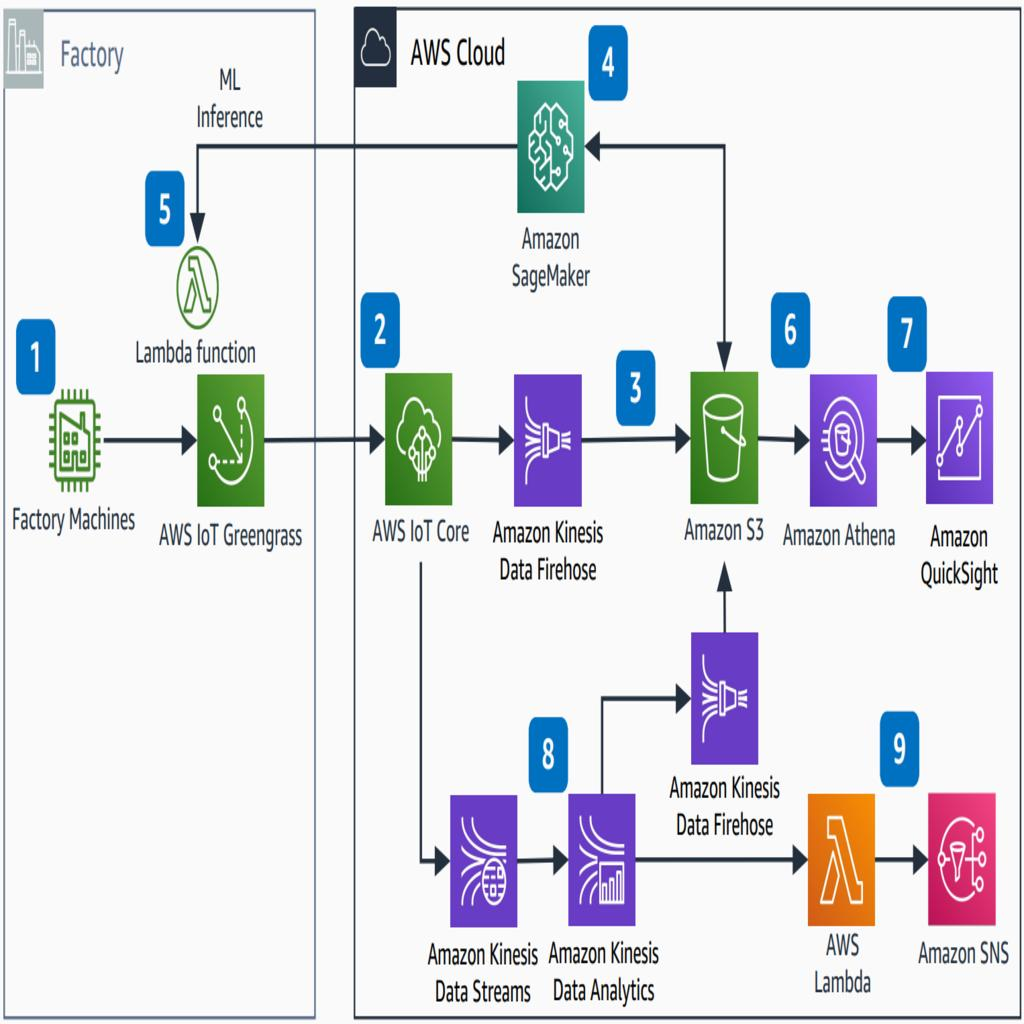actor: (23, 396, 81, 486)
compute: (198, 396, 256, 486), (520, 100, 578, 190), (388, 396, 446, 486), (520, 396, 578, 486), (454, 815, 512, 905), (572, 815, 630, 905), (694, 652, 752, 742), (812, 815, 870, 905), (177, 253, 220, 320)
data_flow: (417, 486, 423, 937), (221, 142, 520, 148), (601, 142, 724, 148), (720, 190, 726, 312), (660, 857, 782, 863), (256, 438, 370, 444), (720, 542, 726, 656), (82, 438, 136, 444), (620, 694, 664, 700), (196, 158, 202, 200), (461, 438, 497, 444), (594, 438, 630, 444), (767, 438, 798, 444), (423, 857, 454, 863), (526, 857, 557, 863), (598, 737, 604, 768), (886, 438, 916, 444), (886, 857, 916, 863)
database_storage: (694, 396, 752, 486), (812, 396, 870, 486), (932, 396, 990, 486)
network_security: (932, 815, 990, 905)
trust_boundary: (353, 10, 1019, 1014), (5, 10, 312, 1014)
